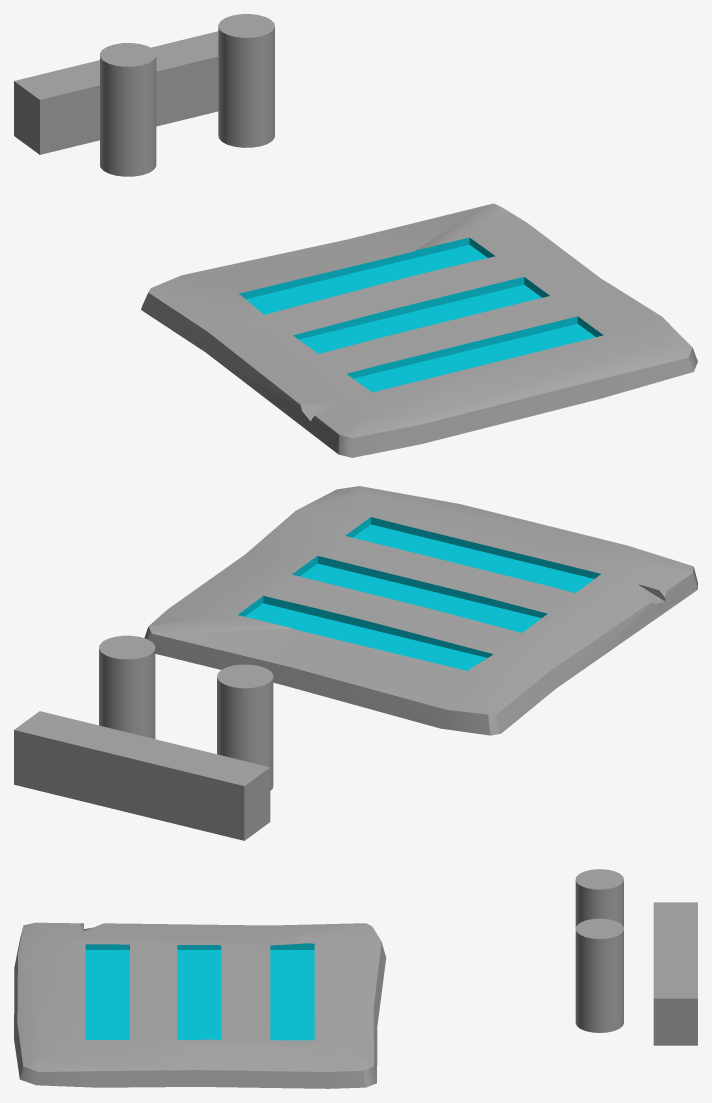
File: dalle15.fbx
3 views of the same model, one above another, from view 1: azimuth 30°, elevation 25°; view 2: azimuth 150°, elevation 25°; view 3: azimuth 270°, elevation 25° (orthographic). The views are drawn at different scales.
Visible parts, largest first — view 1: pCube5, pCube4, pasted__pasted__pCylinder1, pasted__pasted__pasted__pCylinder1; view 2: pCube5, pCube4, pasted__pasted__pCylinder1, pasted__pasted__pasted__pCylinder1; view 3: pCube5, pCube4, pasted__pasted__pasted__pCylinder1, pasted__pasted__pCylinder1.
Boxes of the visible parts, x1,y1,x2,y2 form: pCube5: (141, 203, 697, 457); pCube4: (14, 31, 218, 154); pasted__pasted__pCylinder1: (100, 43, 156, 176); pasted__pasted__pasted__pCylinder1: (218, 14, 274, 147); pCube5: (144, 486, 697, 735); pCube4: (14, 711, 270, 840); pasted__pasted__pCylinder1: (217, 664, 273, 790); pasted__pasted__pasted__pCylinder1: (99, 635, 155, 738); pCube5: (14, 922, 386, 1088); pCube4: (653, 902, 697, 1045); pasted__pasted__pasted__pCylinder1: (575, 918, 623, 1032); pasted__pasted__pCylinder1: (575, 869, 623, 927).
Size of the model in its own units: 6.99 by 2.3 by 13.2.
